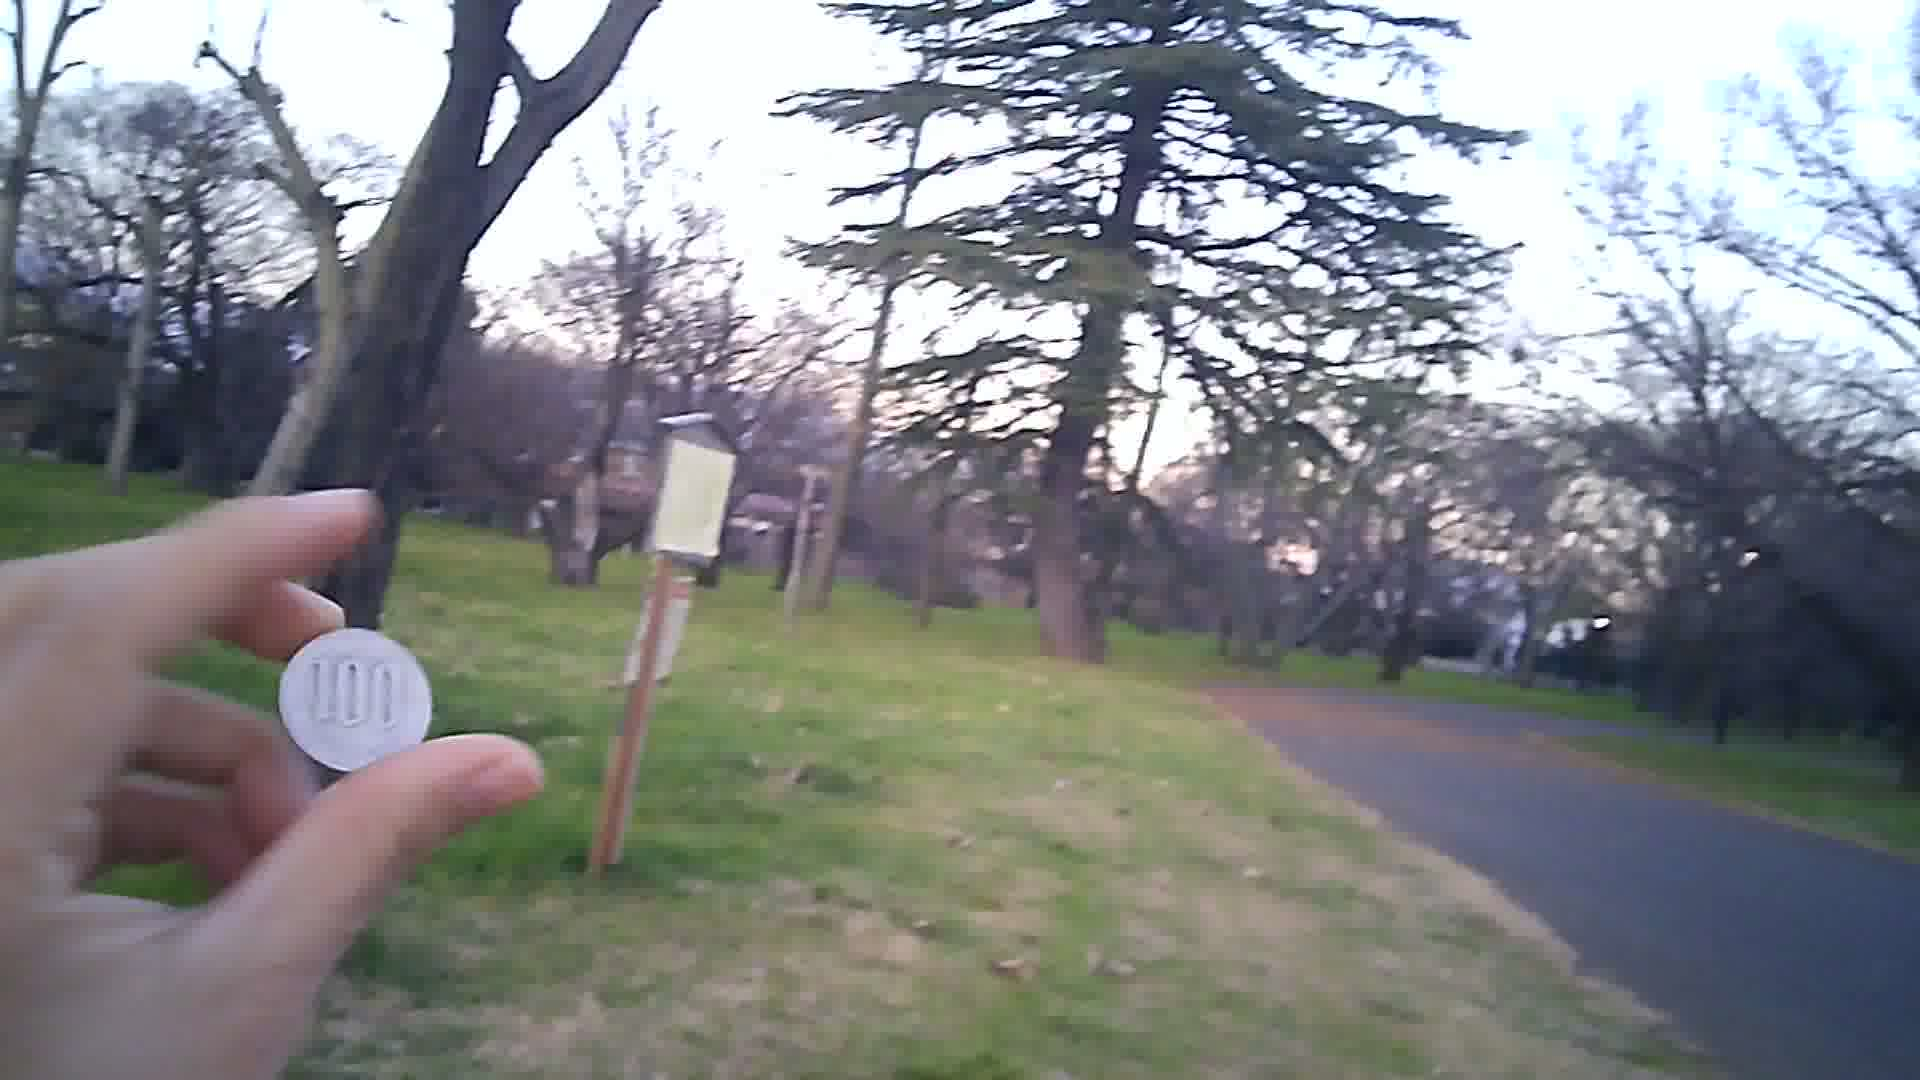100 Yen: (280, 618, 438, 789)
